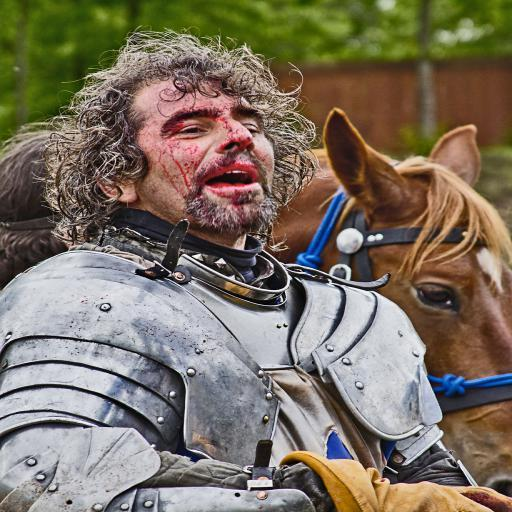horse: (262, 106, 512, 498)
